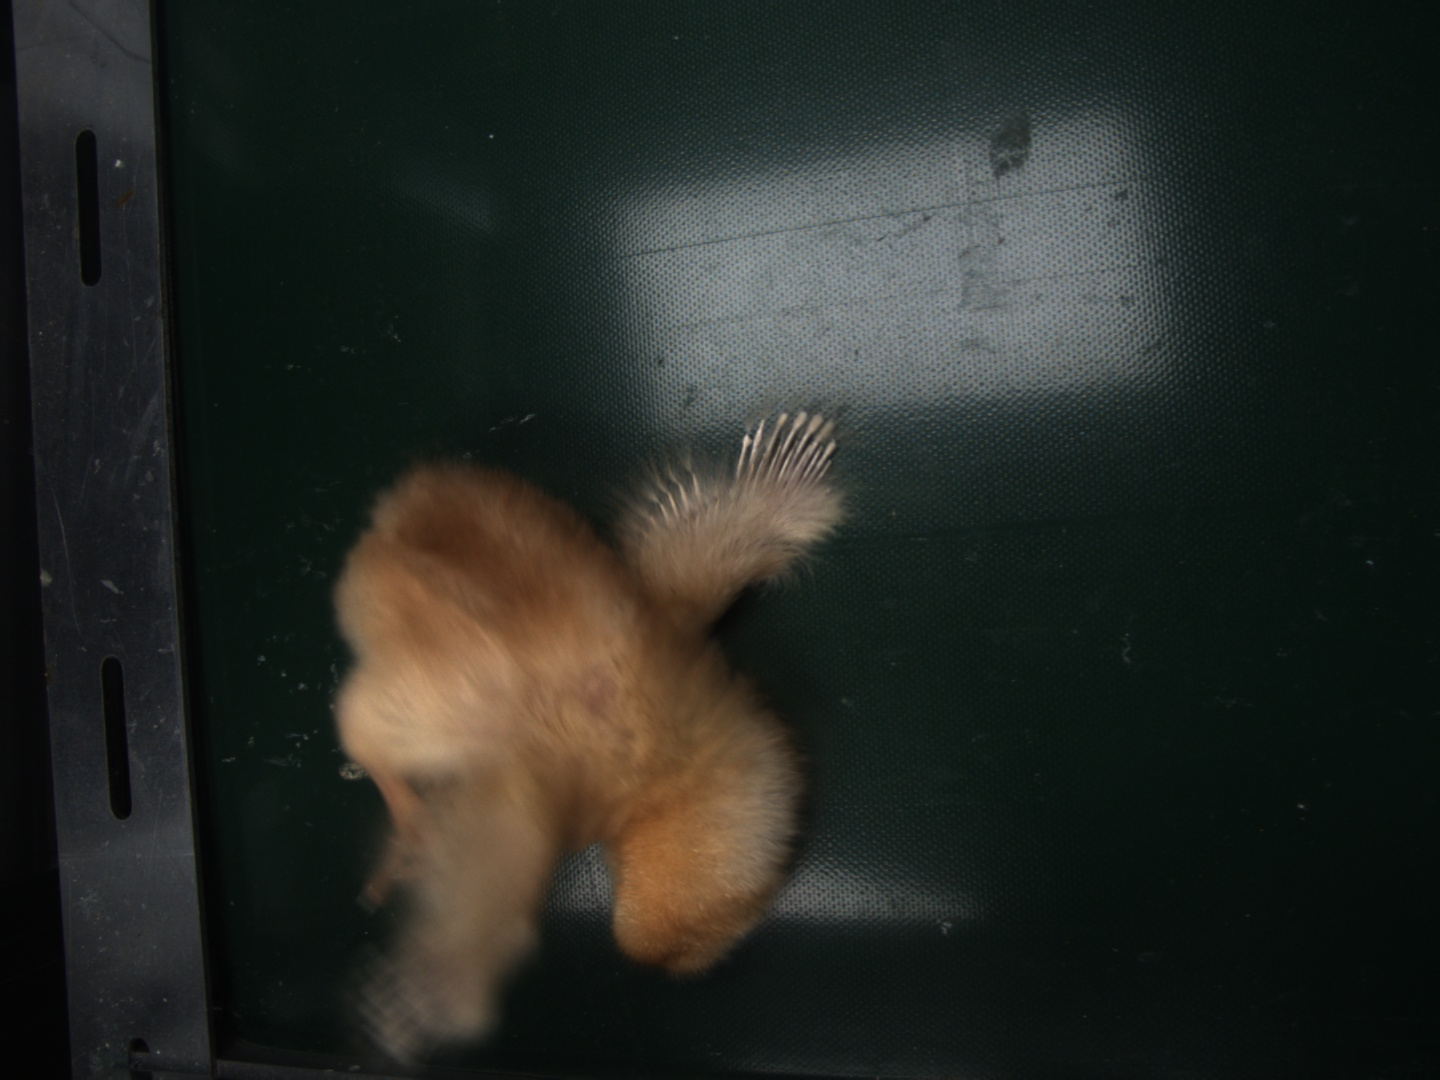female: (732, 410, 835, 486)
